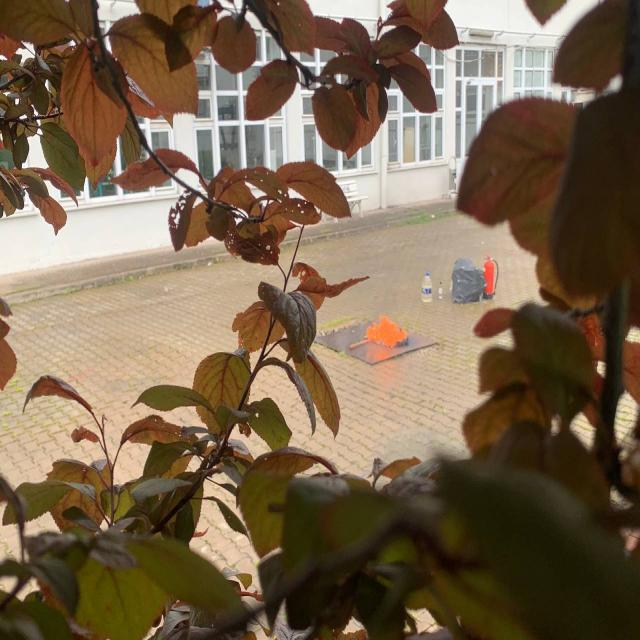fire: (366, 311, 417, 352)
